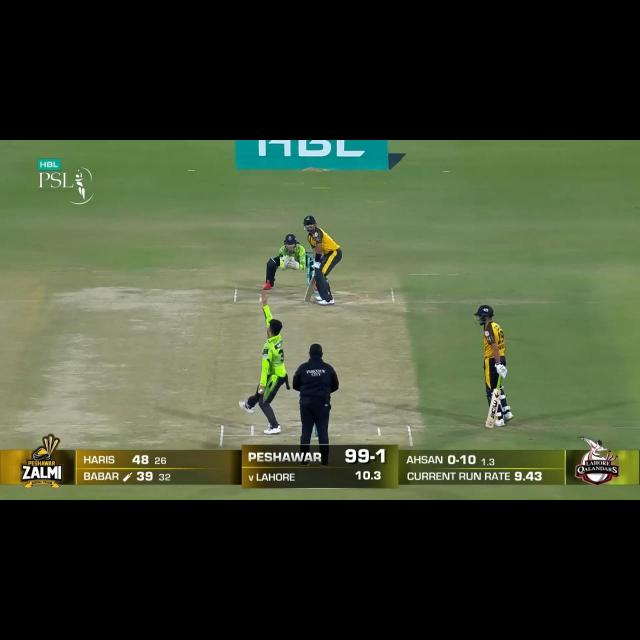bat: (485, 387, 504, 431), (305, 277, 316, 302)
toe: (484, 422, 494, 431), (304, 298, 309, 301)
